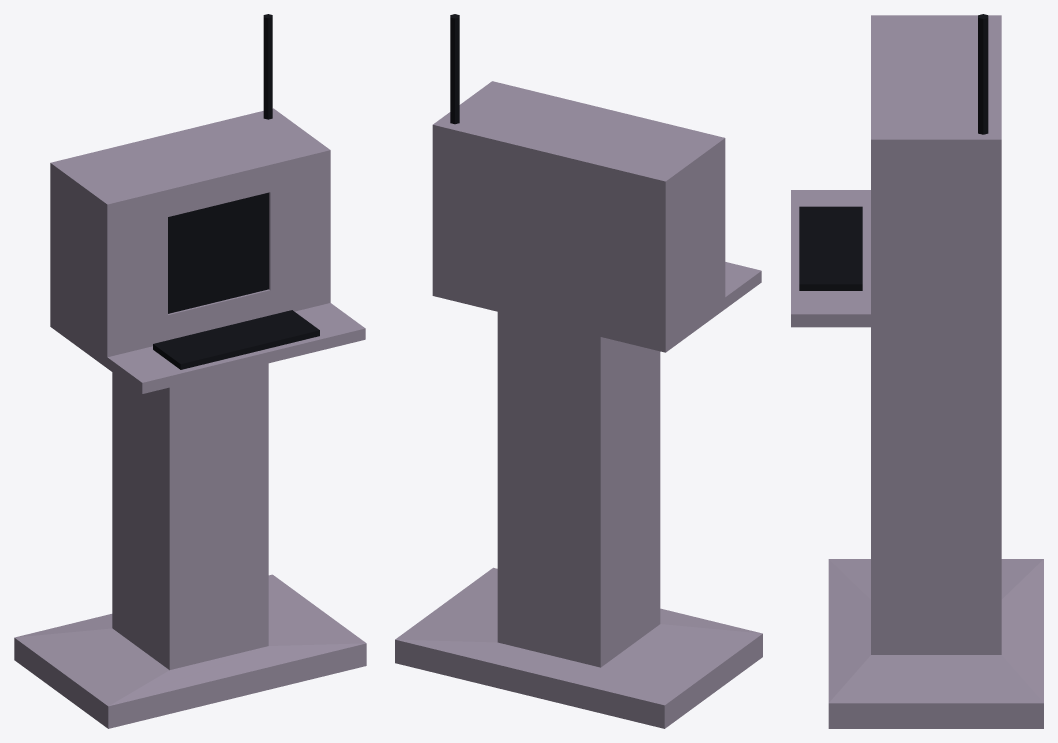
Rendered from terminal.fbx.
3 renders of one model, left to right at view 1: azimuth 30°, elevation 25°; view 2: azimuth 150°, elevation 25°; view 3: azimuth 270°, elevation 25°, orthographic. The views are drawn at different scales.
Parts seen in each view (by area): view 1: terminal, shutter.R, shutter.L; view 2: terminal; view 3: terminal.
Boxes of the visible parts, x1,y1,x2,y2 form: terminal: (14, 14, 366, 728); shutter.R: (217, 192, 268, 301); shutter.L: (168, 205, 217, 313); terminal: (395, 14, 762, 728); terminal: (791, 14, 1043, 728).
Bounding box in the file's own units: 79.67 × 179 × 59.04.
Materials: 1 (1 with a texture image).
